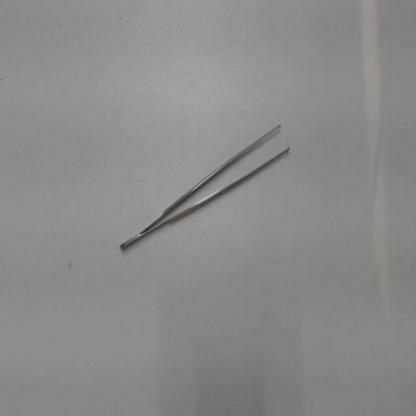Gillies Toothed Dissector: (112, 117, 307, 264)
